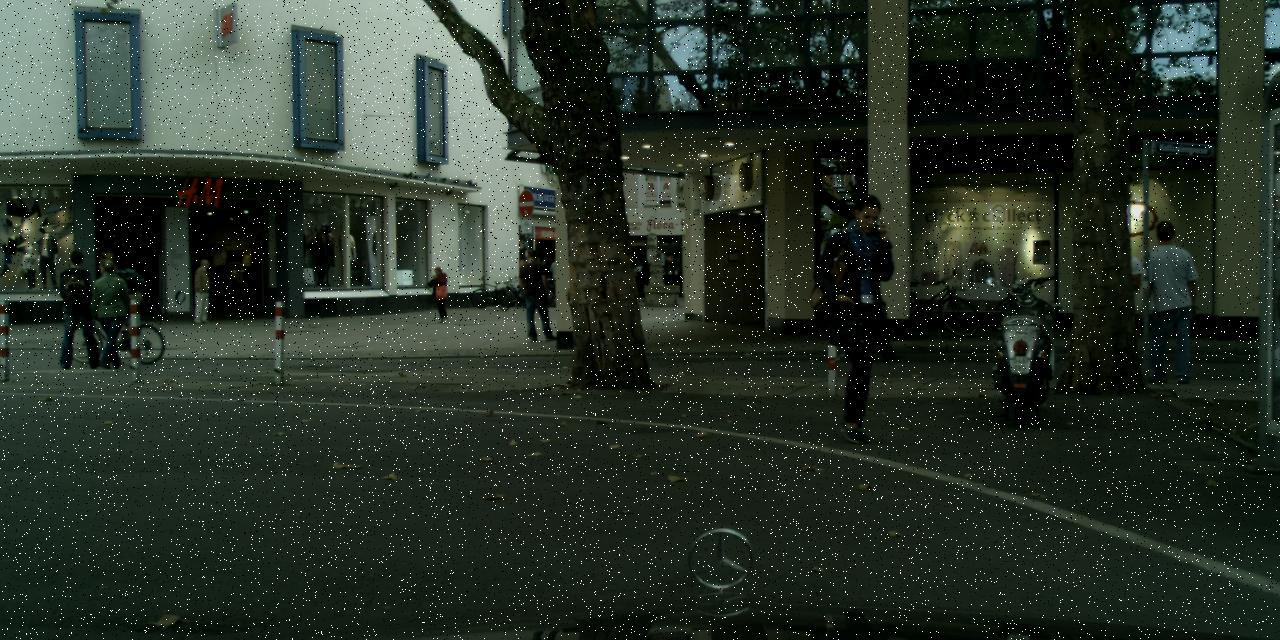ped: (812, 194, 913, 443), (1134, 219, 1200, 383), (838, 235, 889, 362), (54, 250, 102, 368), (1100, 239, 1146, 350), (88, 260, 133, 369), (518, 250, 554, 340), (94, 257, 130, 346), (190, 258, 216, 323), (429, 266, 451, 321), (548, 254, 566, 302), (638, 260, 653, 298)
